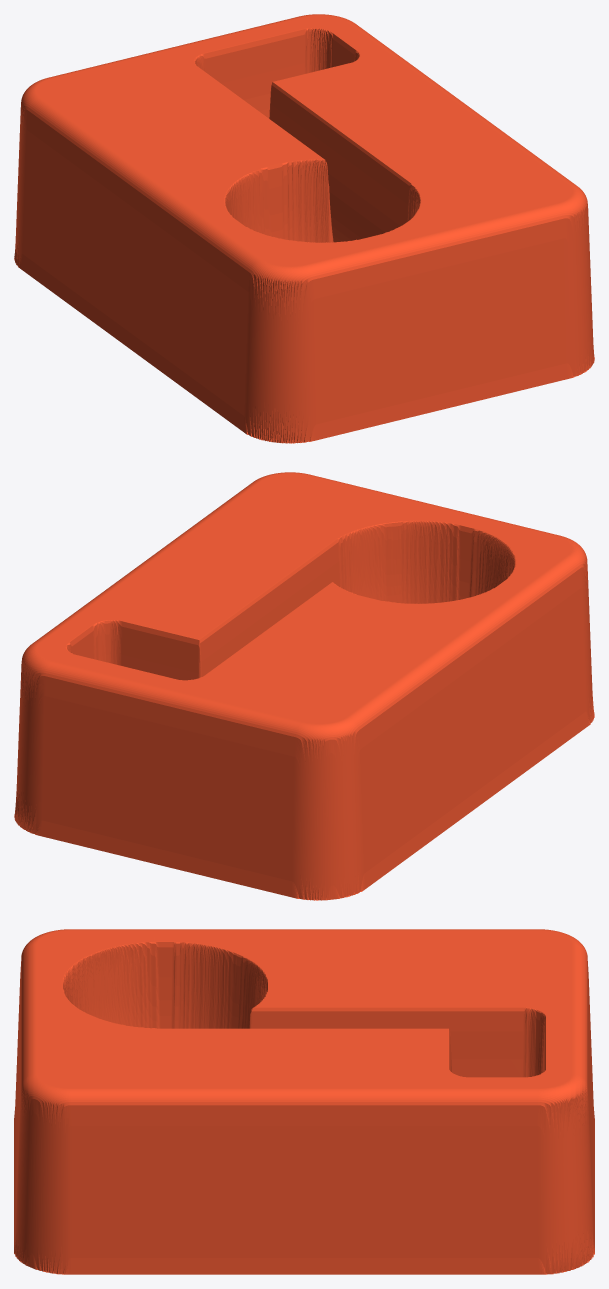
Rendered from mold.glb.
3 renders of one model, top to bottom at view 1: azimuth 30°, elevation 25°; view 2: azimuth 150°, elevation 25°; view 3: azimuth 270°, elevation 25°, orthographic. The views are drawn at different scales.
Parts seen in each view (by area): view 1: geometry_0; view 2: geometry_0; view 3: geometry_0.
Part boxes in pixels (left/top/right/bottom): geometry_0: left=14, top=14, right=594, bottom=443; geometry_0: left=14, top=472, right=594, bottom=900; geometry_0: left=14, top=929, right=594, bottom=1274.
Size of the model in its own units: 0.0666 by 0.031 by 0.0924.
